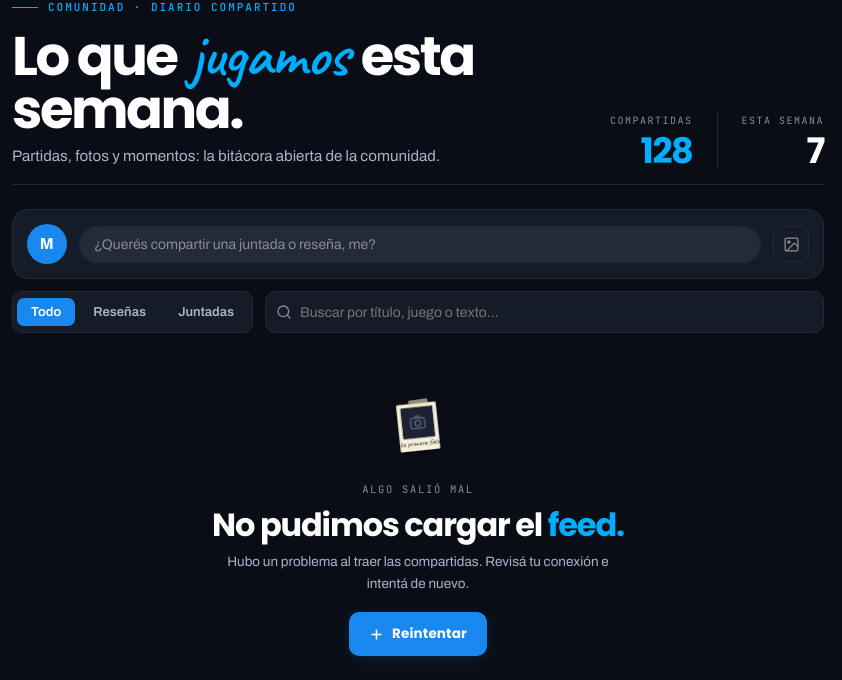
<Compartidas> › reintenta la carga al tocar 'Reintentar'
The width and height of the screenshot is (842, 680).
(page scrolled)
Click the button "Reintentar".
click(418, 634)  # box [349, 612, 487, 656]
(page scrolled)
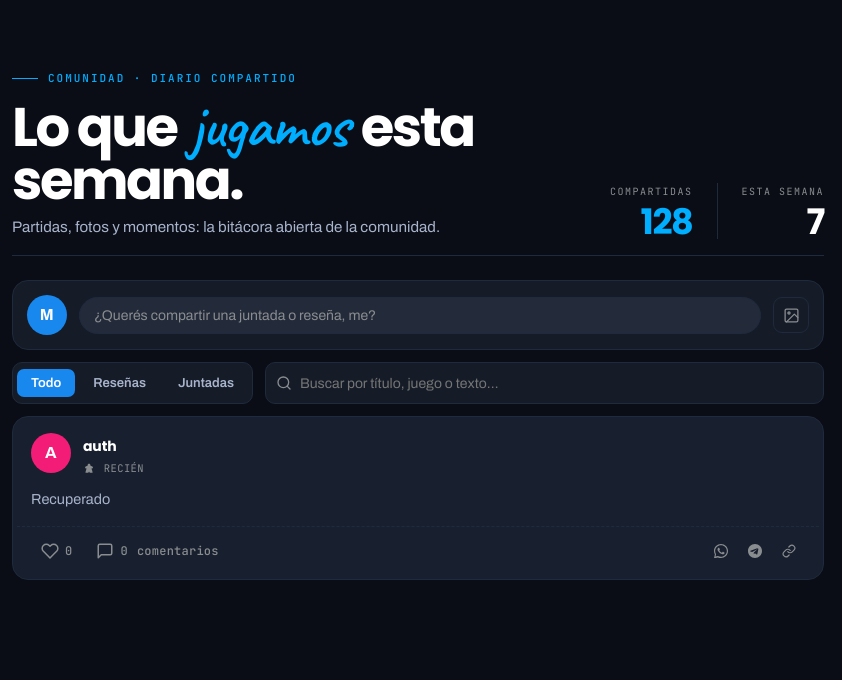
Check: the text "Recuperado" is shown, box [31, 491, 110, 507]
